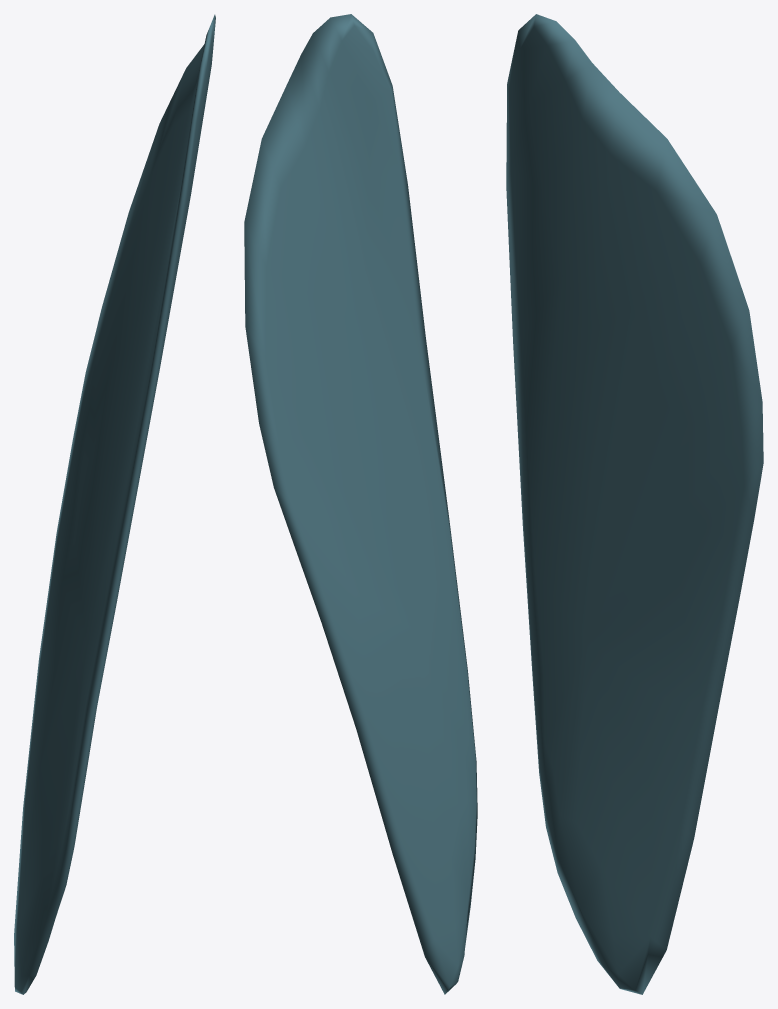
File: Gracilis_on_pes_anserinus.r_Generated_Mesh_From_X3D.236.glb
The picture shows the model from 3 angles, left to right: view 1: azimuth 30°, elevation 25°; view 2: azimuth 150°, elevation 25°; view 3: azimuth 270°, elevation 25°; orthographic projection. The views are drawn at different scales.
Parts seen in each view (by area): view 1: Gracilis_on_pes_anserinus.r_Generated_Mesh_From_X3D.236; view 2: Gracilis_on_pes_anserinus.r_Generated_Mesh_From_X3D.236; view 3: Gracilis_on_pes_anserinus.r_Generated_Mesh_From_X3D.236.
Boxes of the visible parts, x1,y1,x2,y2 form: Gracilis_on_pes_anserinus.r_Generated_Mesh_From_X3D.236: [14, 14, 215, 994]; Gracilis_on_pes_anserinus.r_Generated_Mesh_From_X3D.236: [244, 14, 477, 994]; Gracilis_on_pes_anserinus.r_Generated_Mesh_From_X3D.236: [506, 14, 763, 994].
Bounding box in the file's own units: 0.00905 × 0.0448 × 0.00987.
